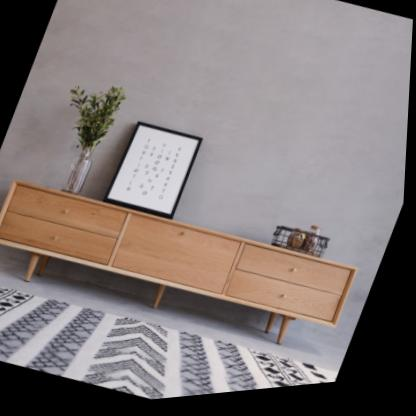TV stand: (0, 181, 362, 351)
